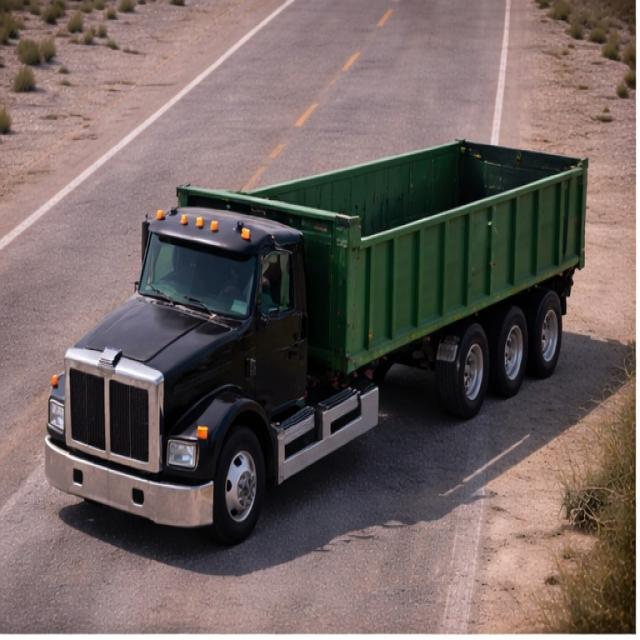Box: (173, 136, 592, 240)
Truck: (43, 130, 592, 530)
